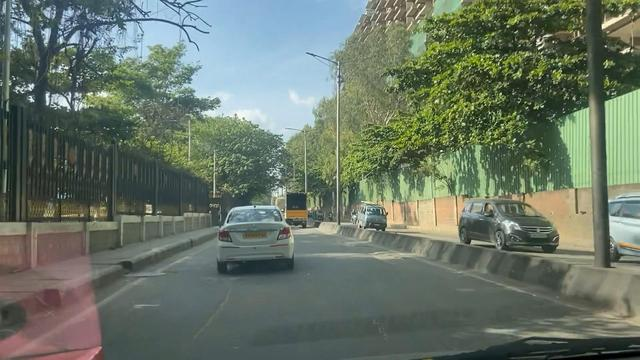HMV: (279, 185, 315, 233)
RoadDamages: (124, 262, 167, 284)
